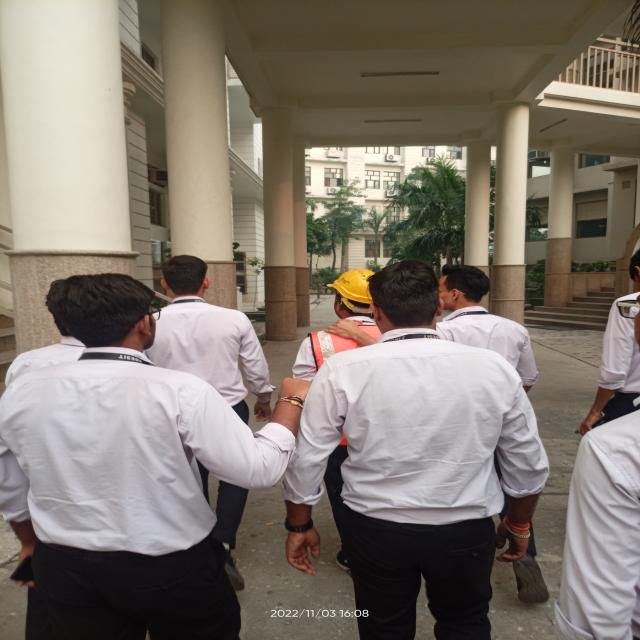safe: (290, 266, 394, 572)
unsafe: (0, 272, 308, 640), (288, 256, 545, 640), (139, 255, 277, 597)
